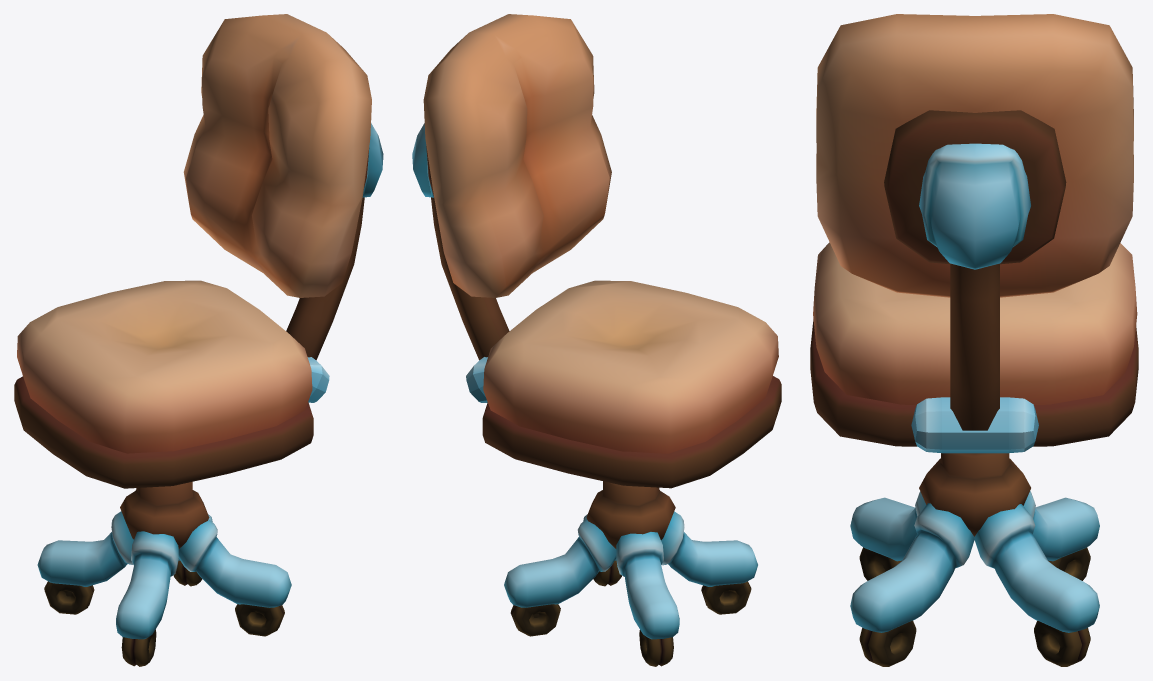
File: BureauStoel_M.fbx
The picture shows the model from 3 angles, left to right: view 1: azimuth 30°, elevation 25°; view 2: azimuth 150°, elevation 25°; view 3: azimuth 270°, elevation 25°; orthographic projection. The views are drawn at different scales.
Visible parts, largest first — view 1: BezierCurve.002; view 2: BezierCurve.002; view 3: BezierCurve.002.
Boxes of the visible parts, <box> form: BezierCurve.002: <box>14,14,383,666</box>; BezierCurve.002: <box>412,14,781,666</box>; BezierCurve.002: <box>810,14,1138,666</box>.
Bounding box in the file's own units: 154 × 97.03 × 66.22.
